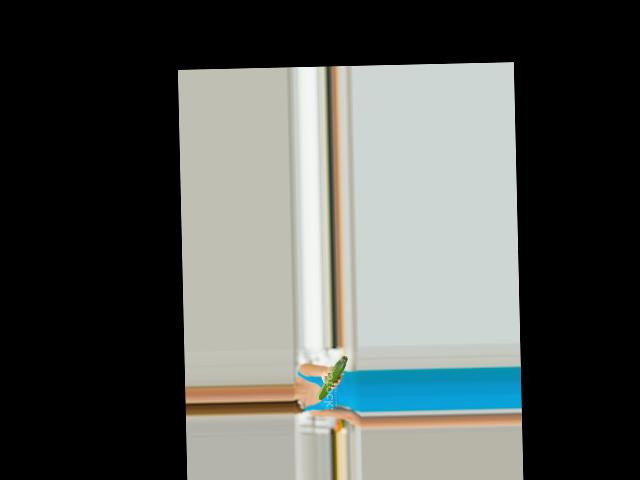cucumber: (317, 356, 348, 400)
